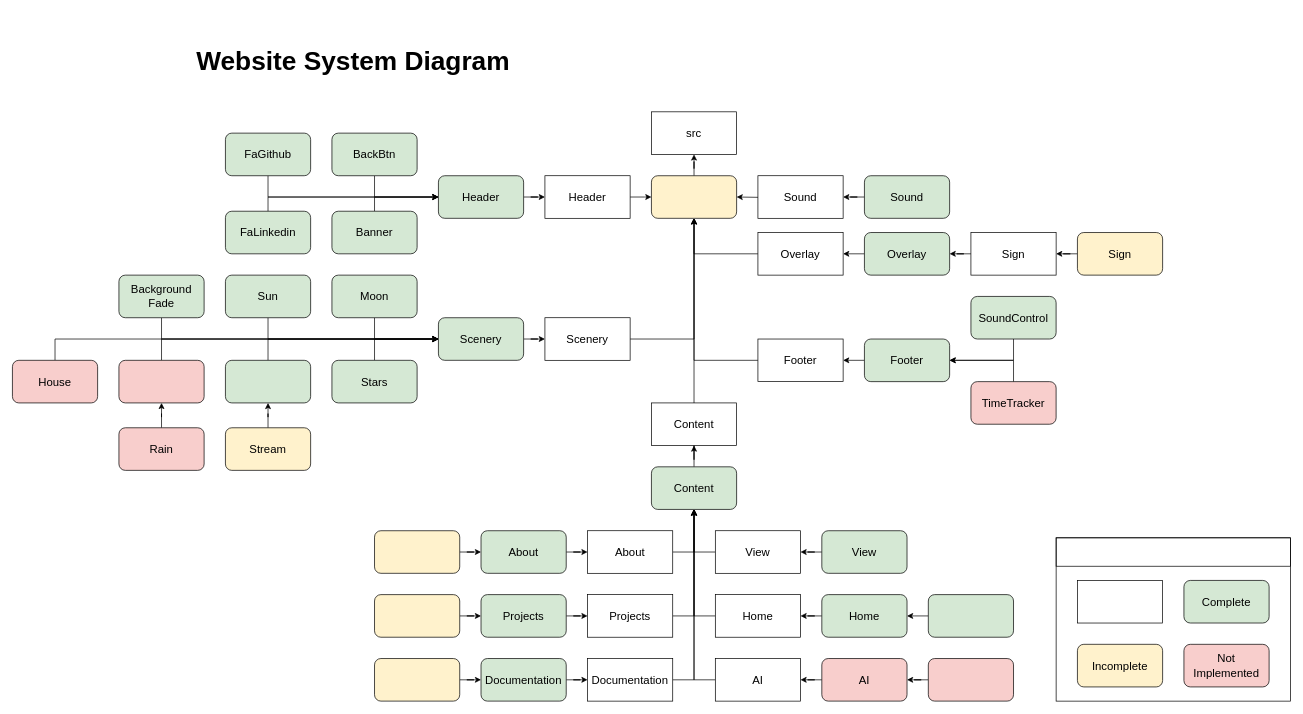
Some shapes in this 1303 by 714 pixel diagram are drawn without their labels. The shapes that lost their labels are listed below. From the top down, each one's centre as x and y in pixels, then its label:
(x=694, y=196): App
(x=161, y=381): Cloud
(x=268, y=381): Hills
(x=417, y=551): AboutContent
(x=1172, y=551): LEGEND
(x=417, y=615): ProjectContent
(x=971, y=615): Buttons
(x=1120, y=601): Directory
(x=417, y=679): Documentation Content
(x=971, y=679): AIContent
